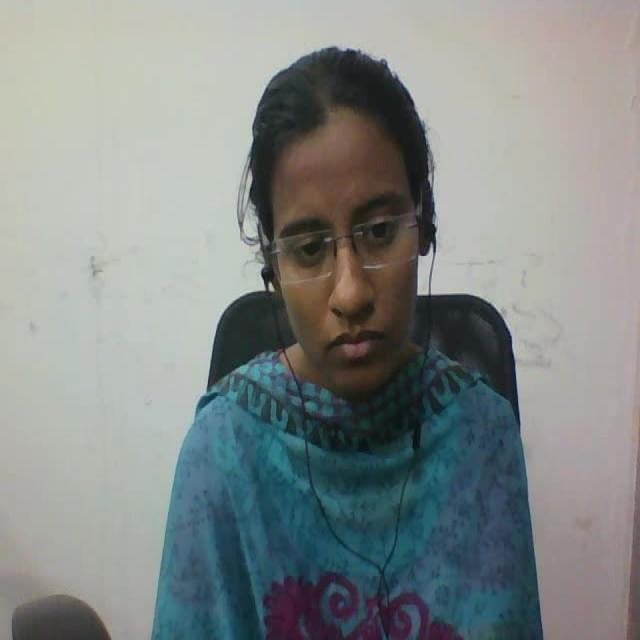Engaged: (220, 26, 455, 402)
